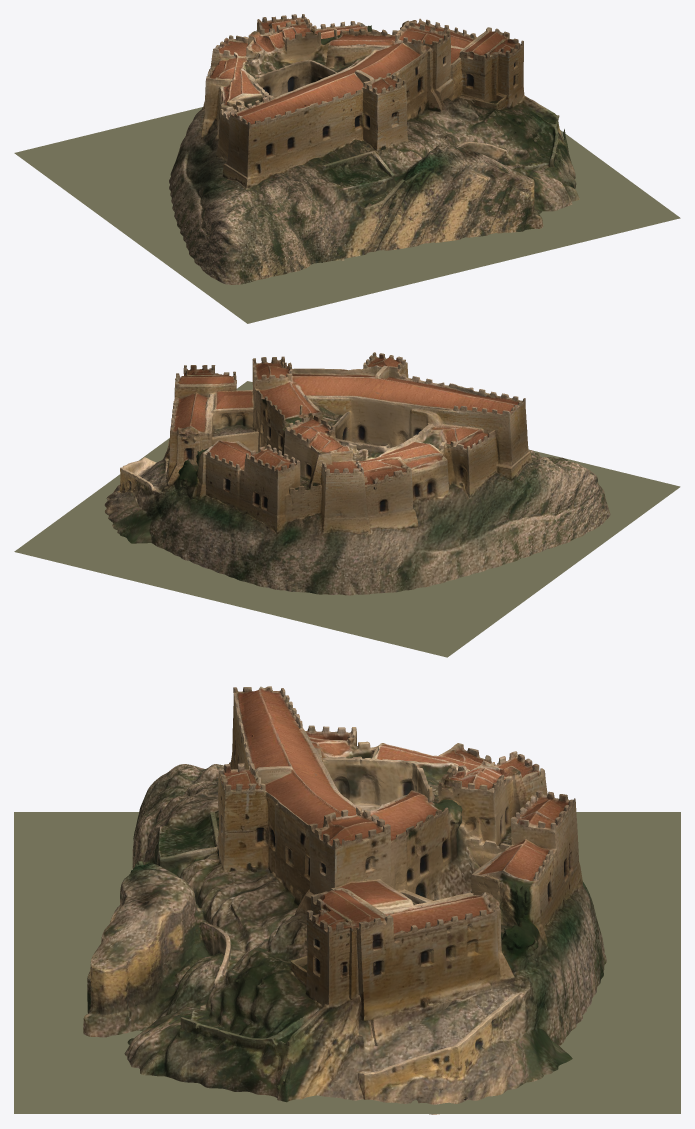
The model's file is castellocacc.glb.
3 renders of one model, top to bottom at view 1: azimuth 30°, elevation 25°; view 2: azimuth 150°, elevation 25°; view 3: azimuth 270°, elevation 25°, orthographic. The views are drawn at different scales.
Parts seen in each view (by area): view 1: tripo_node_fdb58def-bcff-4e2d-82f2-7ef33833006c, Piano; view 2: tripo_node_fdb58def-bcff-4e2d-82f2-7ef33833006c, Piano; view 3: tripo_node_fdb58def-bcff-4e2d-82f2-7ef33833006c, Piano.
Boxes of the visible parts, x1,y1,x2,y2 form: tripo_node_fdb58def-bcff-4e2d-82f2-7ef33833006c: (169,14,579,284); Piano: (14,107,680,323); tripo_node_fdb58def-bcff-4e2d-82f2-7ef33833006c: (104,352,610,595); Piano: (14,381,680,657); tripo_node_fdb58def-bcff-4e2d-82f2-7ef33833006c: (83,686,606,1114); Piano: (14,812,680,1113).
Size of the model in its own units: 1.07 by 0.3328 by 1.
Materials: 2 (1 with a texture image).
